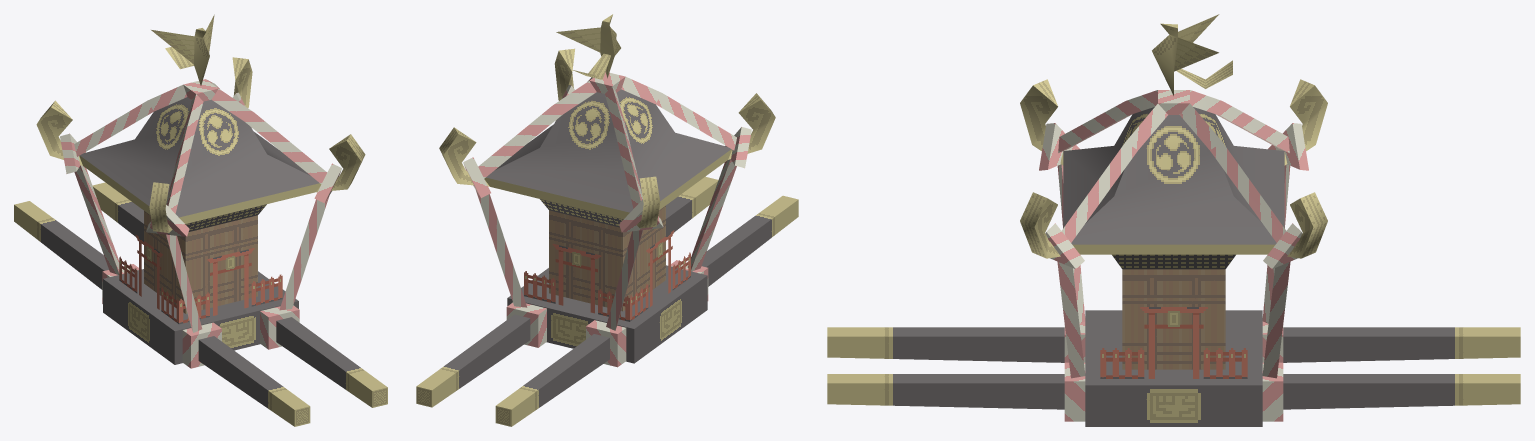
Rendered from 012a_Mikoshi.glb.
3 renders of one model, left to right at view 1: azimuth 30°, elevation 25°; view 2: azimuth 150°, elevation 25°; view 3: azimuth 270°, elevation 25°, orthographic. The views are drawn at different scales.
Parts seen in each view (by area): view 1: part_0; view 2: part_0; view 3: part_0.
Part boxes in pixels (x1=…): part_0: x1=14, y1=14, x2=387, y2=426; part_0: x1=416, y1=14, x2=798, y2=426; part_0: x1=827, y1=14, x2=1520, y2=426.
Bounding box in the file's own units: 1.42 × 1.86 × 3.2.
1 material, 1 textured.
